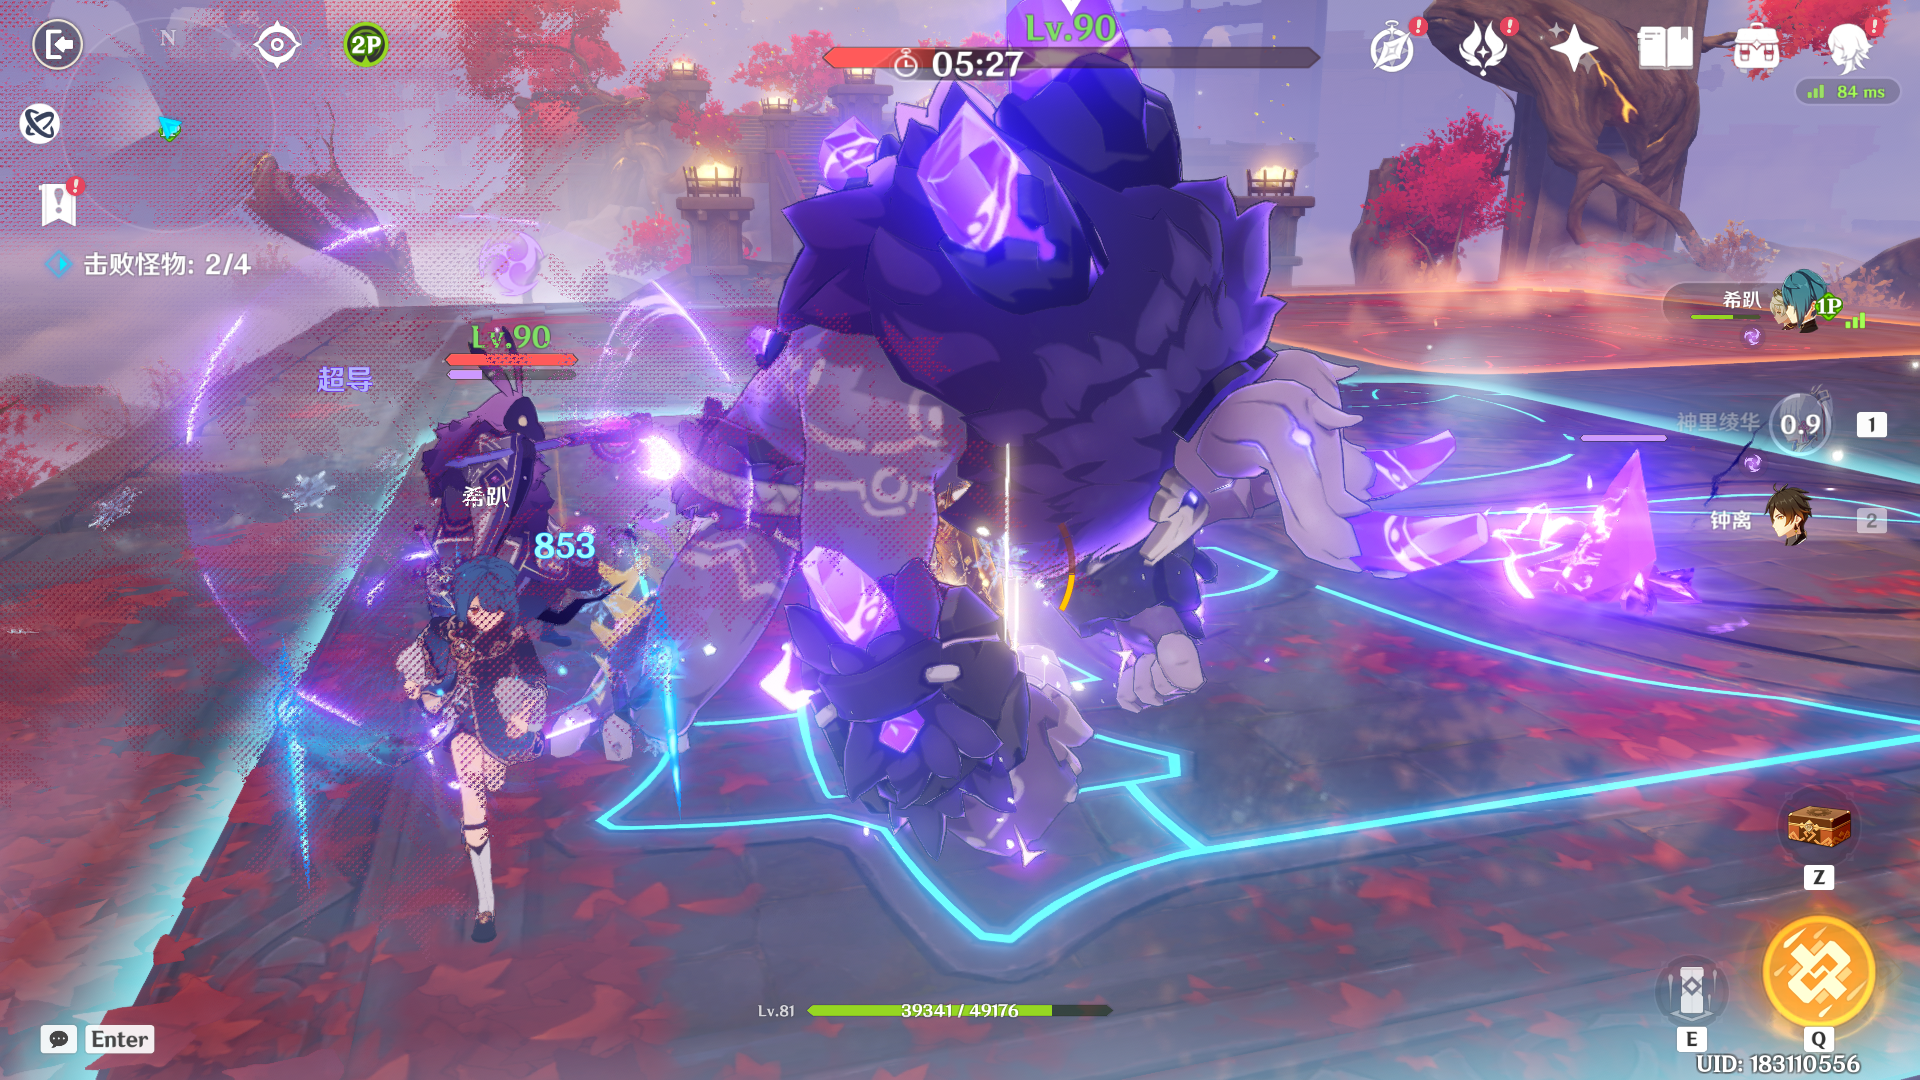bosshili: (620, 1, 1473, 877)
caster: (359, 342, 704, 680)
character: (338, 531, 626, 938)
